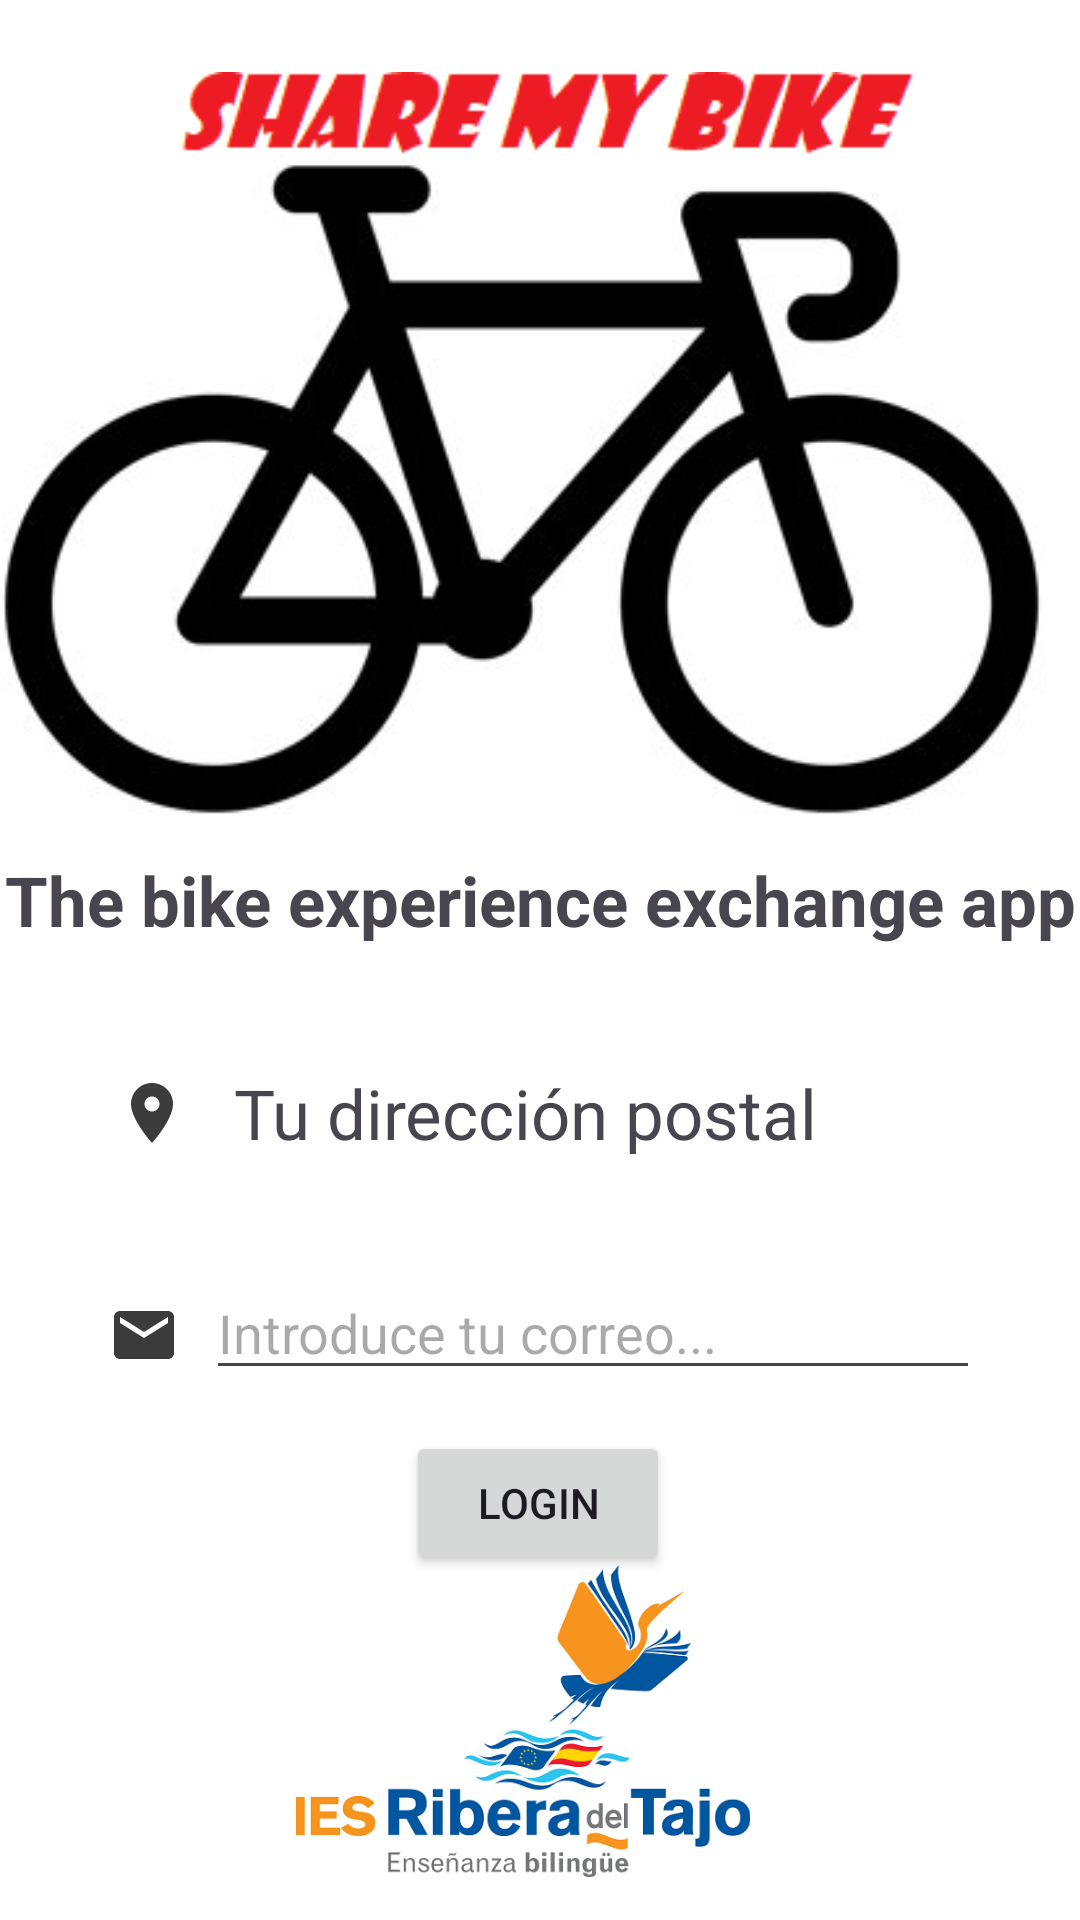

Where icons sit on this 1080*1920 app screen, as (x1, y1, x2, y2):
location: (131, 1083, 173, 1143)
